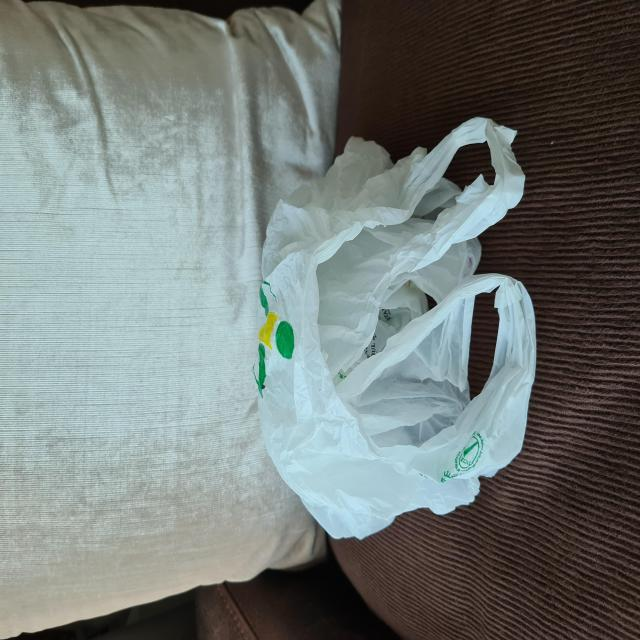plastic bag: (251, 113, 534, 542)
